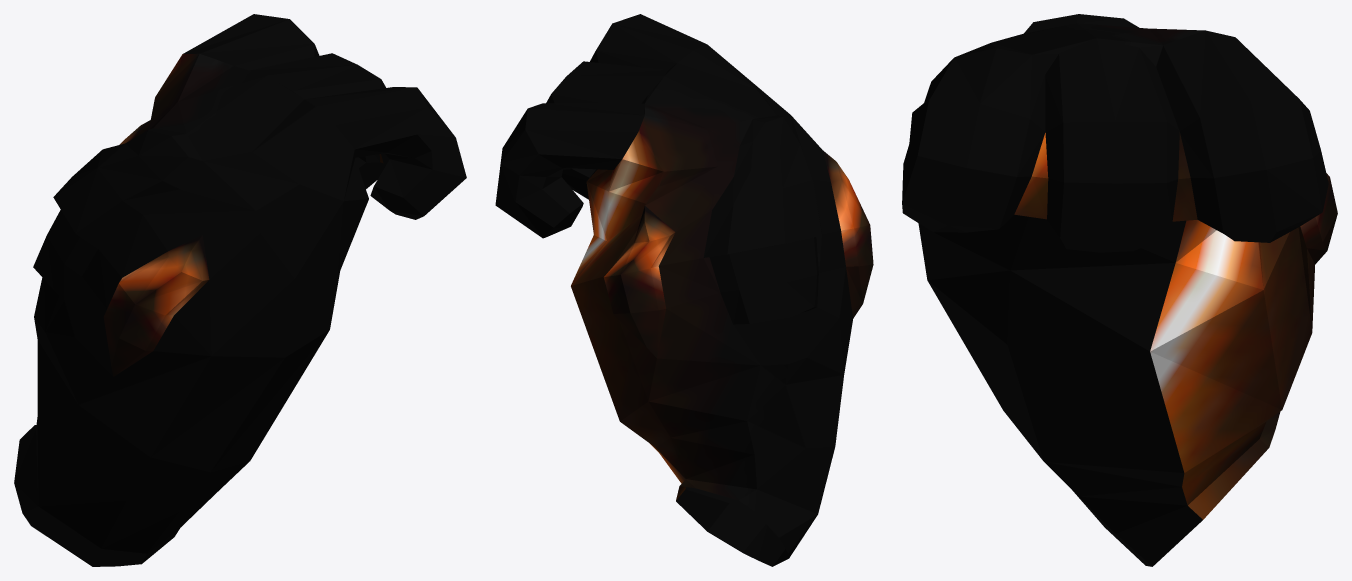
Rendered from 0422_shou02.glb.
3 renders of one model, left to right at view 1: azimuth 30°, elevation 25°; view 2: azimuth 150°, elevation 25°; view 3: azimuth 270°, elevation 25°, orthographic. The views are drawn at different scales.
Bounding box in the file's own units: 1.58 × 2.2 × 1.47.
Materials: 1 (1 with a texture image).
